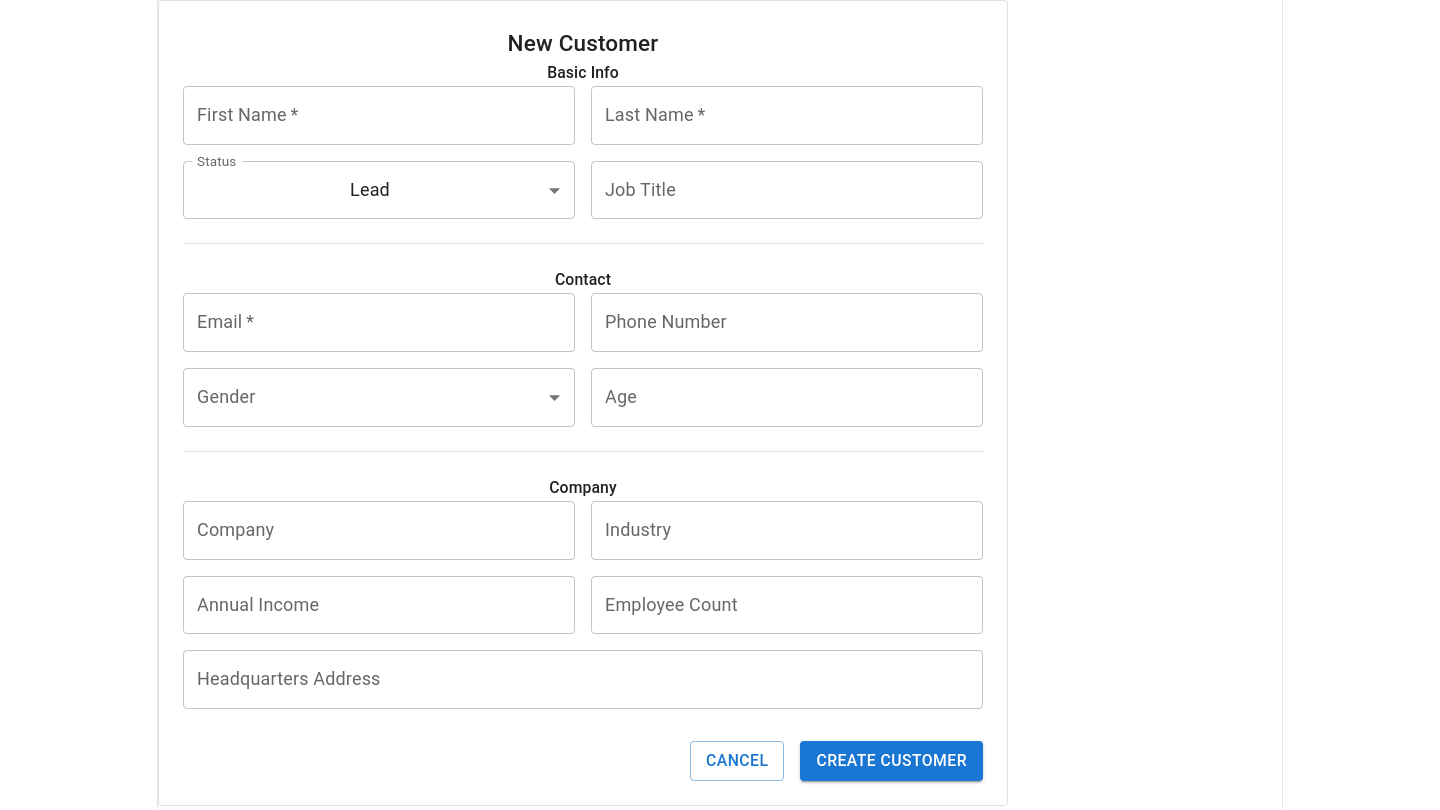
it: CustomerFormPage › sets email field error on 409 conflict response
In the field labelled "First Name *": (379, 115) [183,86,575,145], type "Alice"
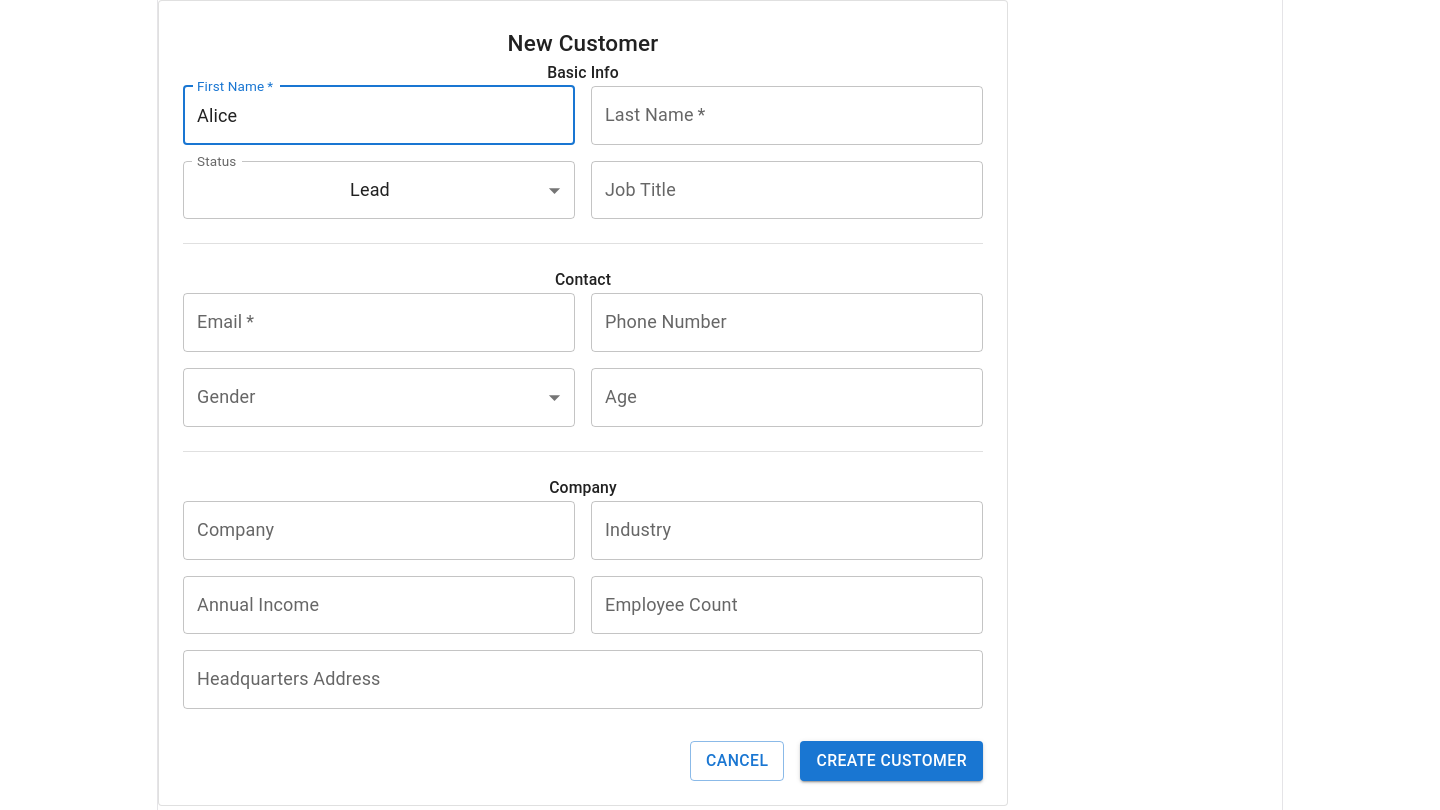
In the field labelled "Last Name *": (787, 115) [591,86,983,145], type "Smith"
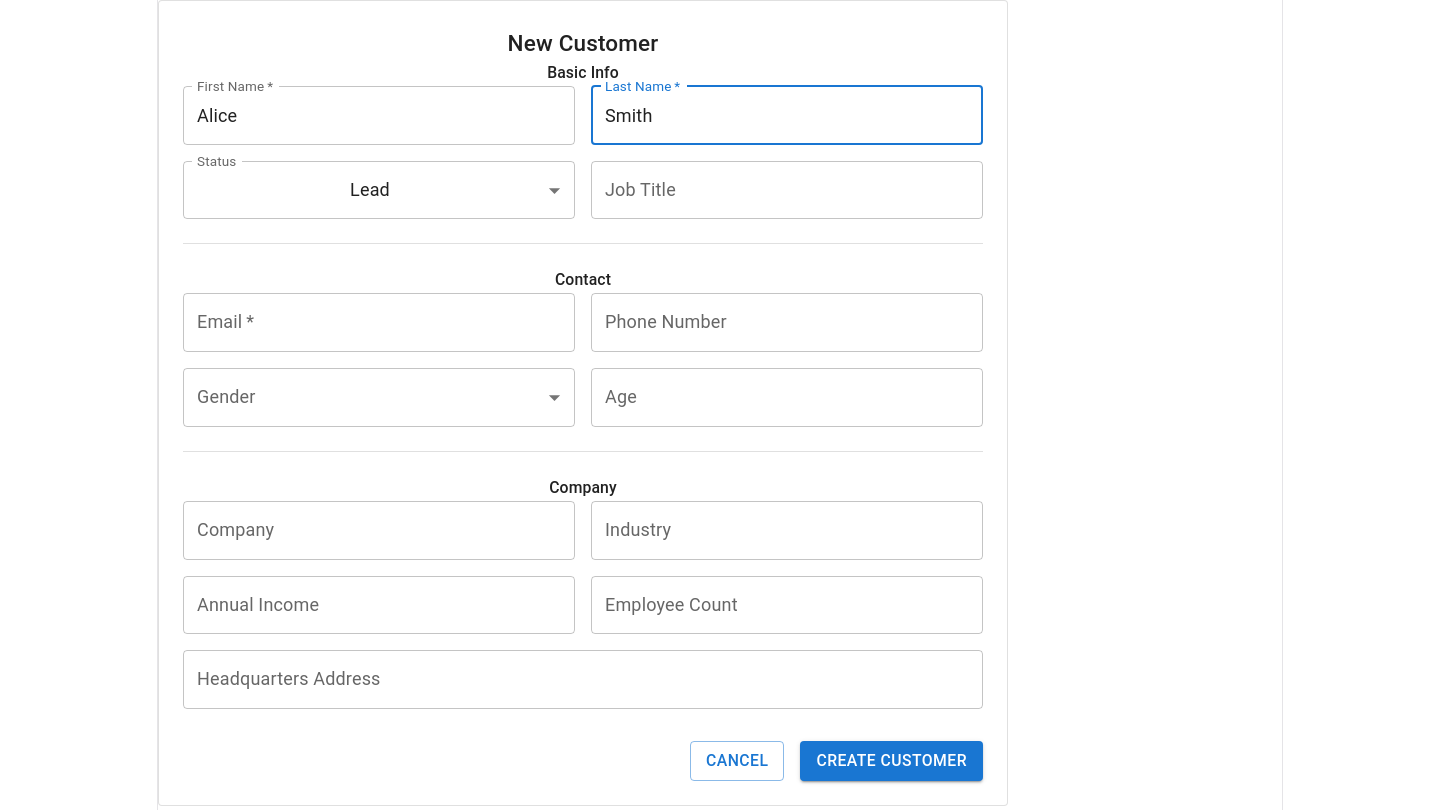
In the field labelled "Email *": (379, 323) [183,293,575,352], type "alice@example.com"
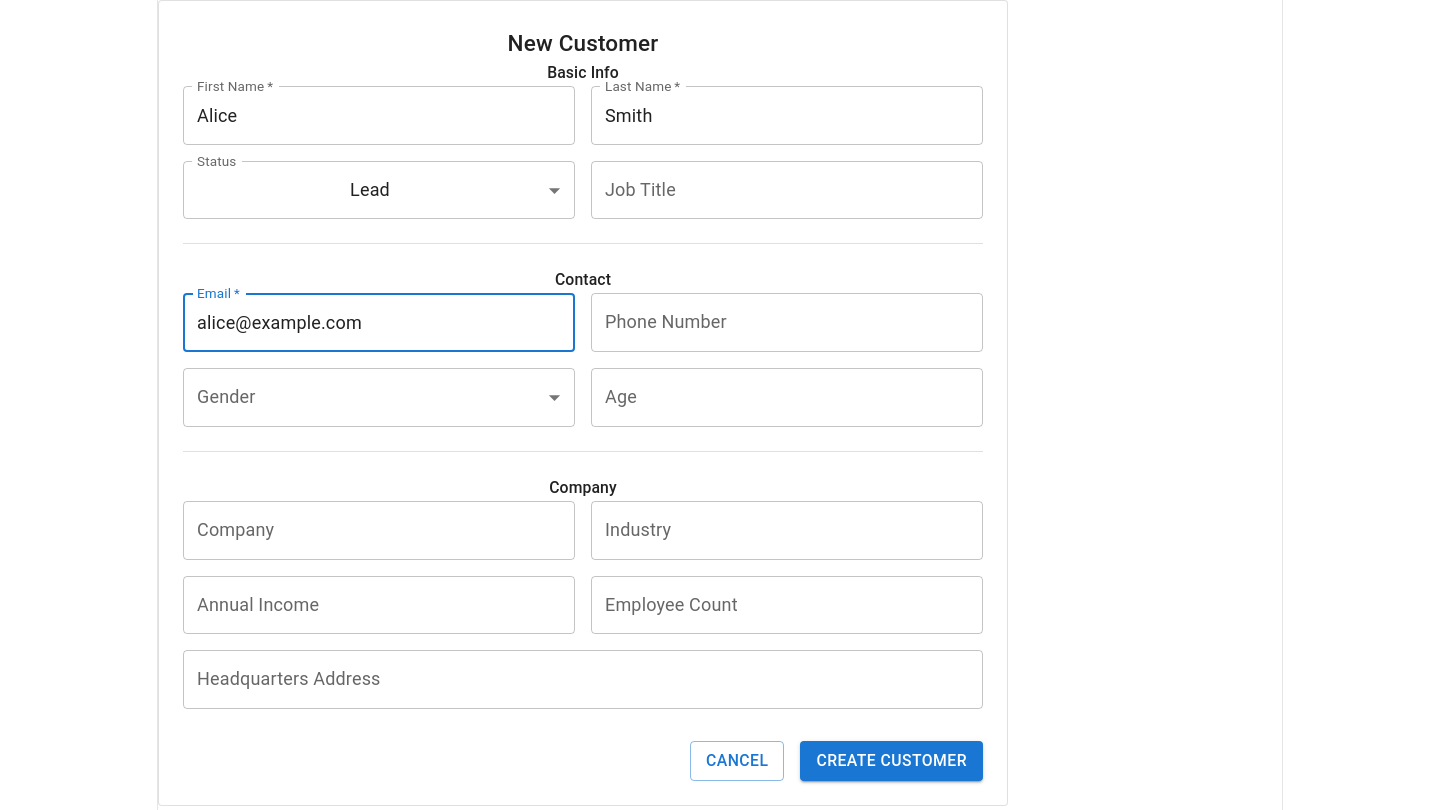
Click the button "Create Customer": (892, 761) [800,741,983,781]
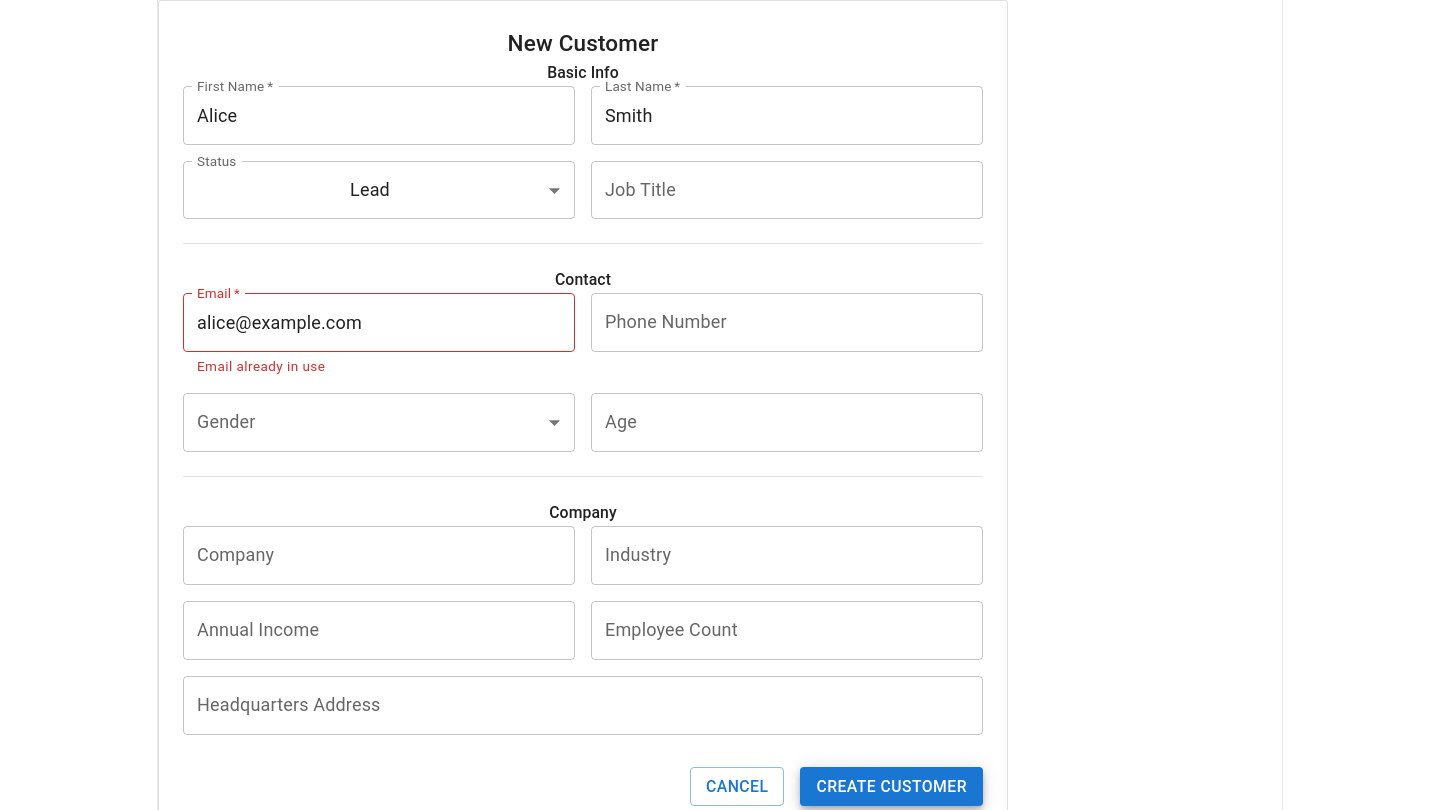
Result: the text "Email already in use" is shown at [197,358,325,374]
